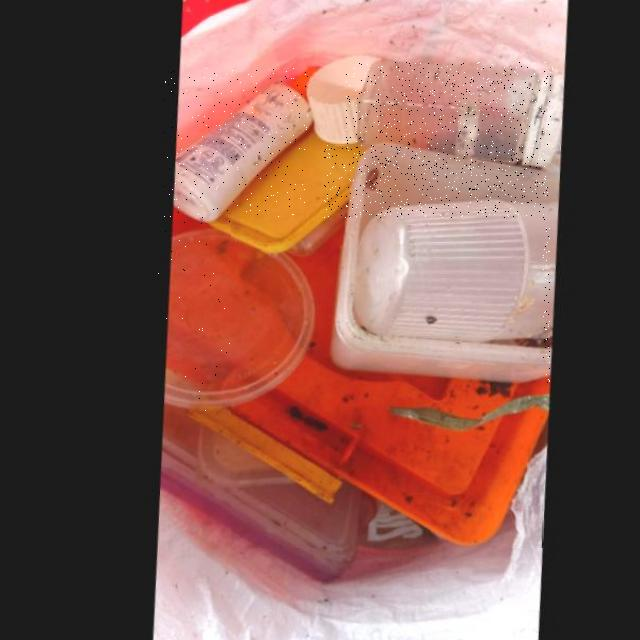plastic: (232, 218, 543, 547), (324, 145, 550, 384), (347, 200, 549, 344), (158, 230, 308, 411), (164, 68, 309, 223), (347, 62, 553, 168)
